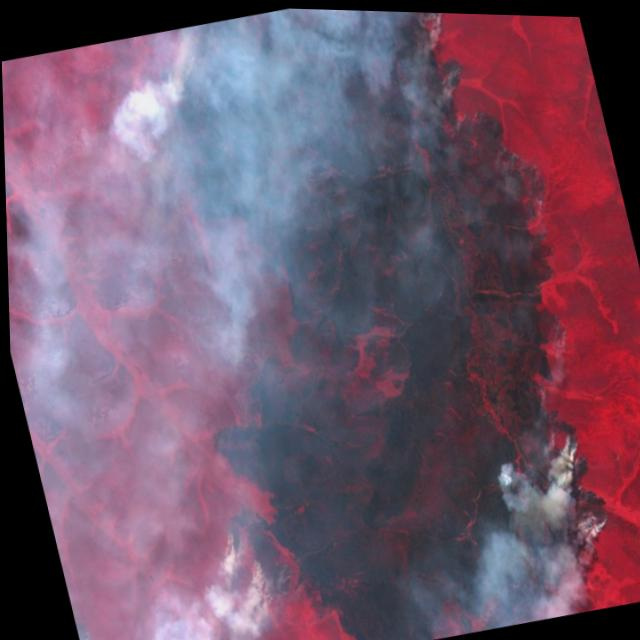fire: (402, 9, 562, 228), (130, 18, 260, 227), (521, 397, 635, 573), (201, 479, 320, 630), (66, 595, 122, 640)
